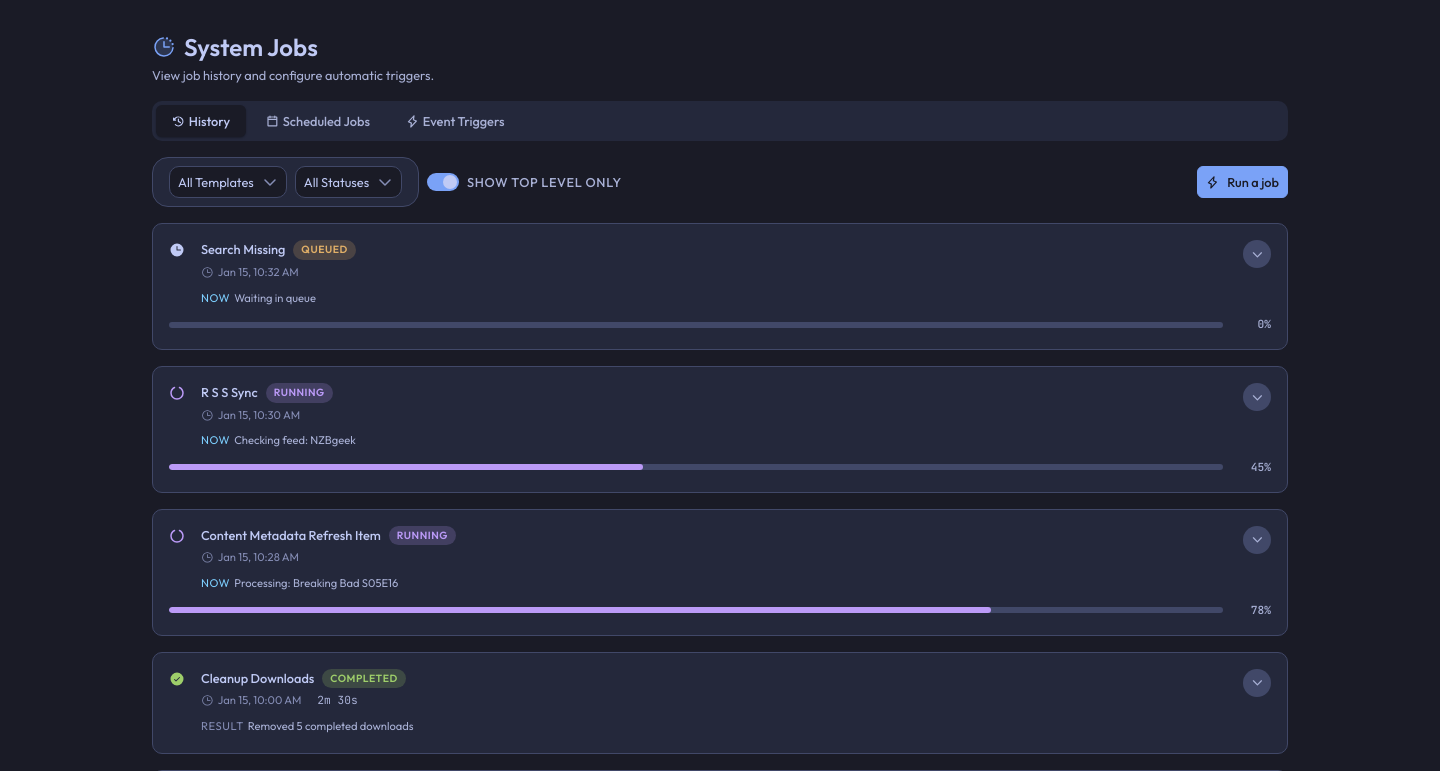
Test: JobsPage Executions tab › limits manager manual run options to backend-allowed job scopes
Click the button "Run a job".
click(1243, 182)  # box [1197,166,1288,198]
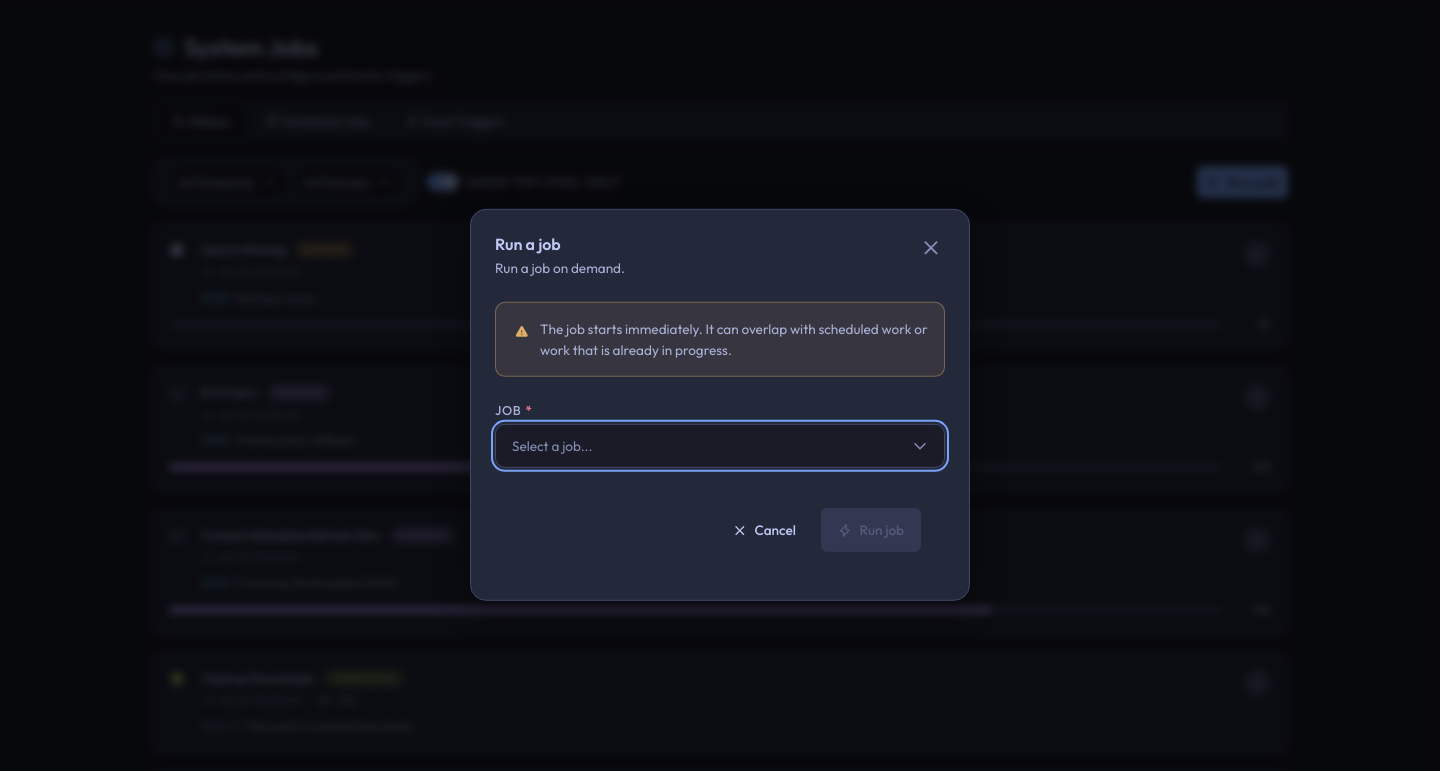
Click the dropdown labelled "Select a job...".
click(552, 446)  # box [495,424,945,468]
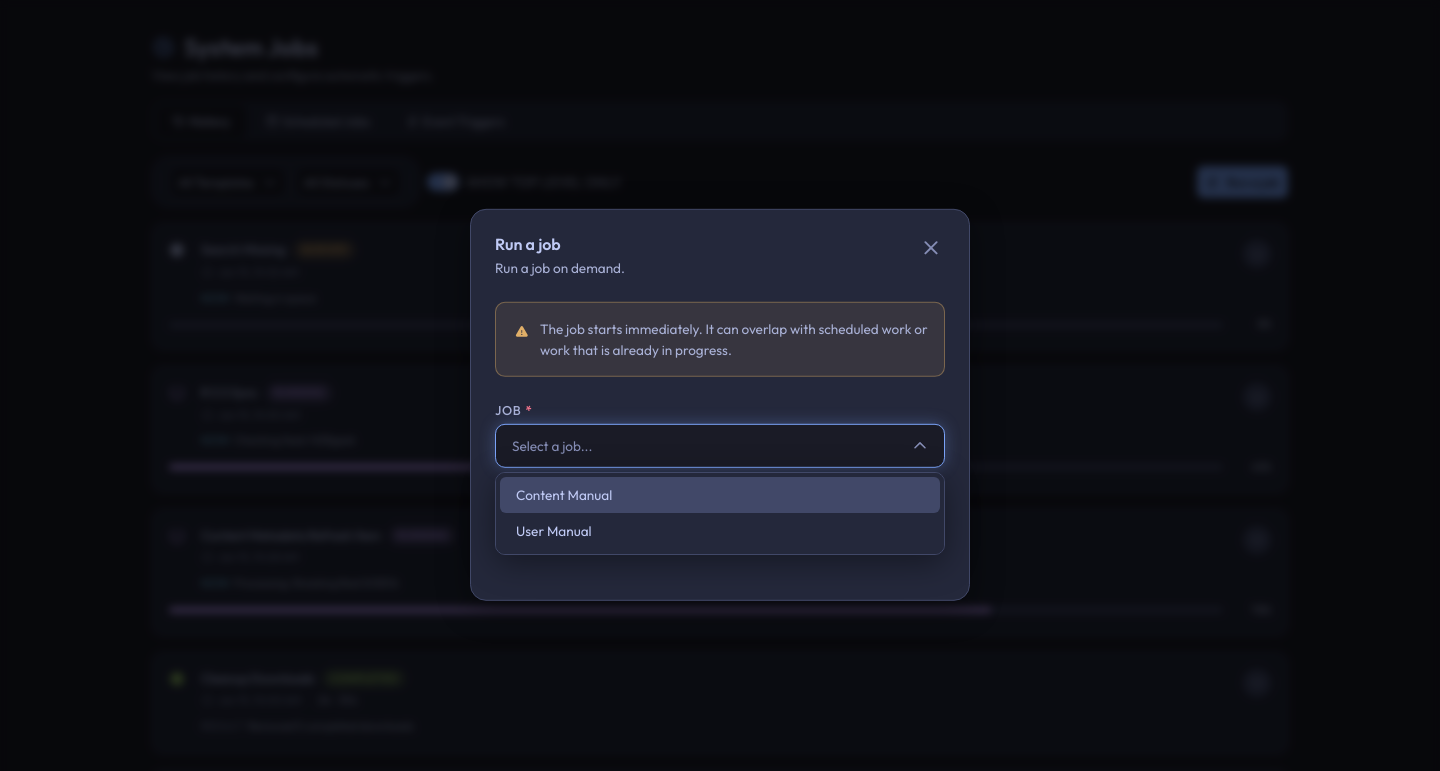
Now the option "Content Manual" is shown, box [500,477,940,513]
Now the option "User Manual" is shown, box [516,522,592,540]
